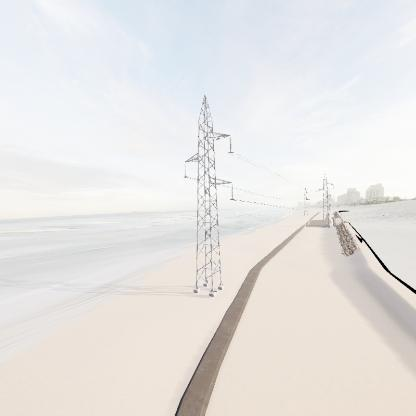tower: (179, 93, 238, 298)
